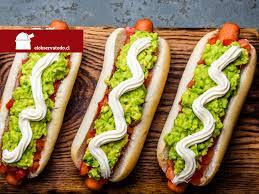Completos: (154, 24, 258, 194), (80, 28, 172, 185)
